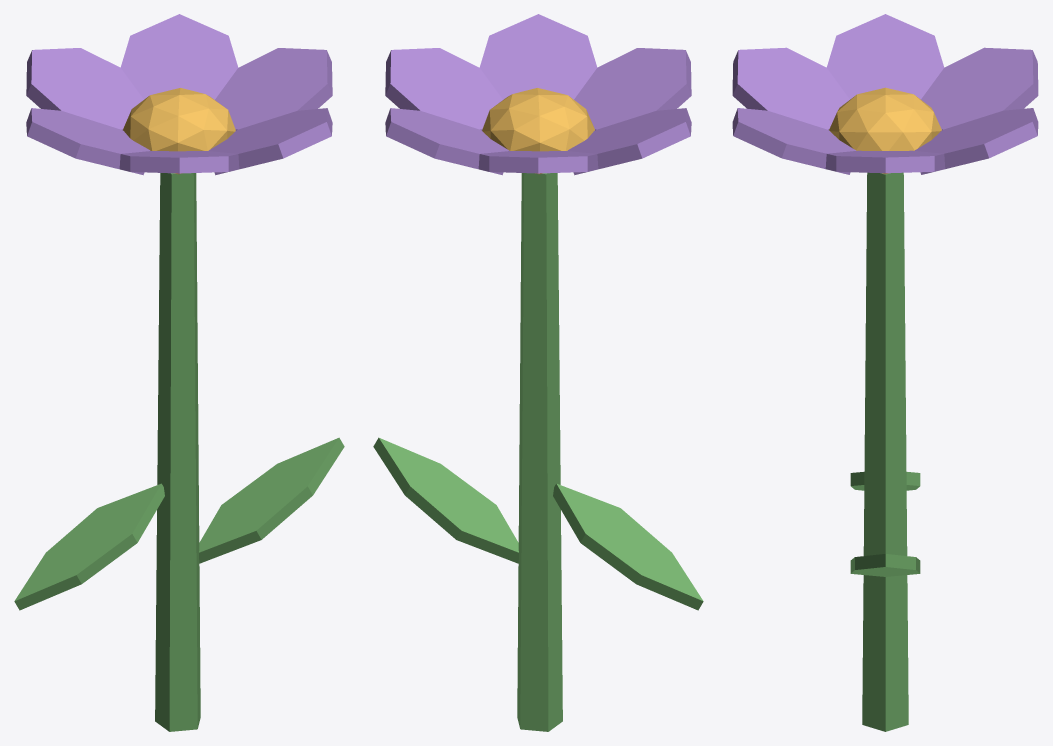
The model's file is deco_flower_blue.obj.
3 renders of one model, left to right at view 1: azimuth 30°, elevation 25°; view 2: azimuth 150°, elevation 25°; view 3: azimuth 270°, elevation 25°, orthographic.
Parts seen in each view (by area): view 1: deco_flower_blue; view 2: deco_flower_blue; view 3: deco_flower_blue.
Part boxes in pixels (x1=…): deco_flower_blue: x1=14, y1=14, x2=344, y2=731; deco_flower_blue: x1=373, y1=14, x2=703, y2=731; deco_flower_blue: x1=732, y1=14, x2=1038, y2=731.
Size of the model in its own units: 0.0436 by 0.0802 by 0.035.
1 material, 1 textured.
